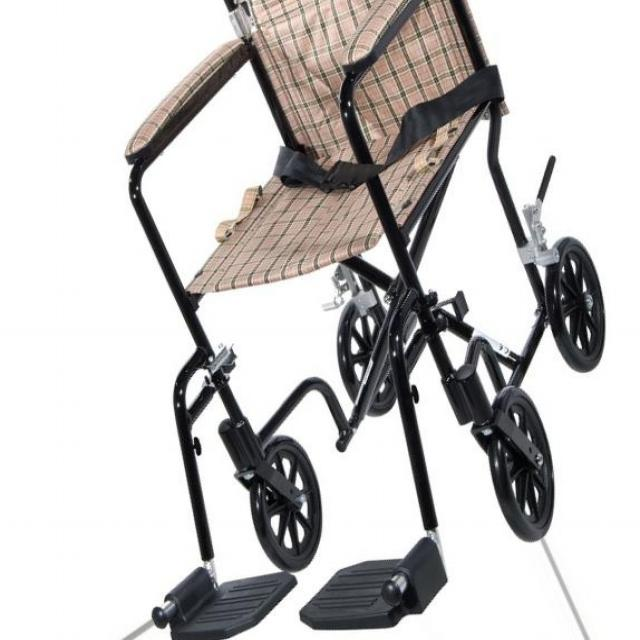wheelchair: (88, 0, 613, 640)
